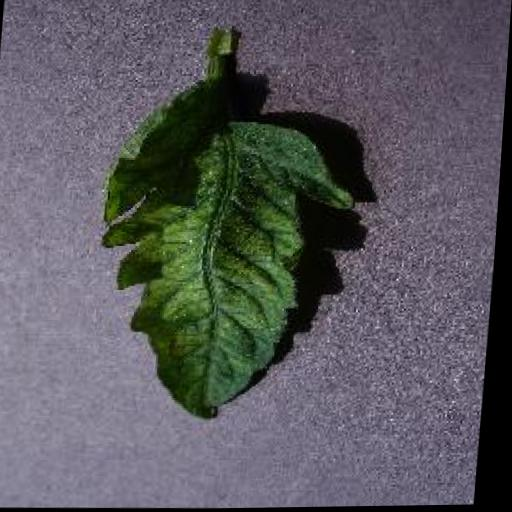Mosaic Virus: (91, 80, 370, 431)
